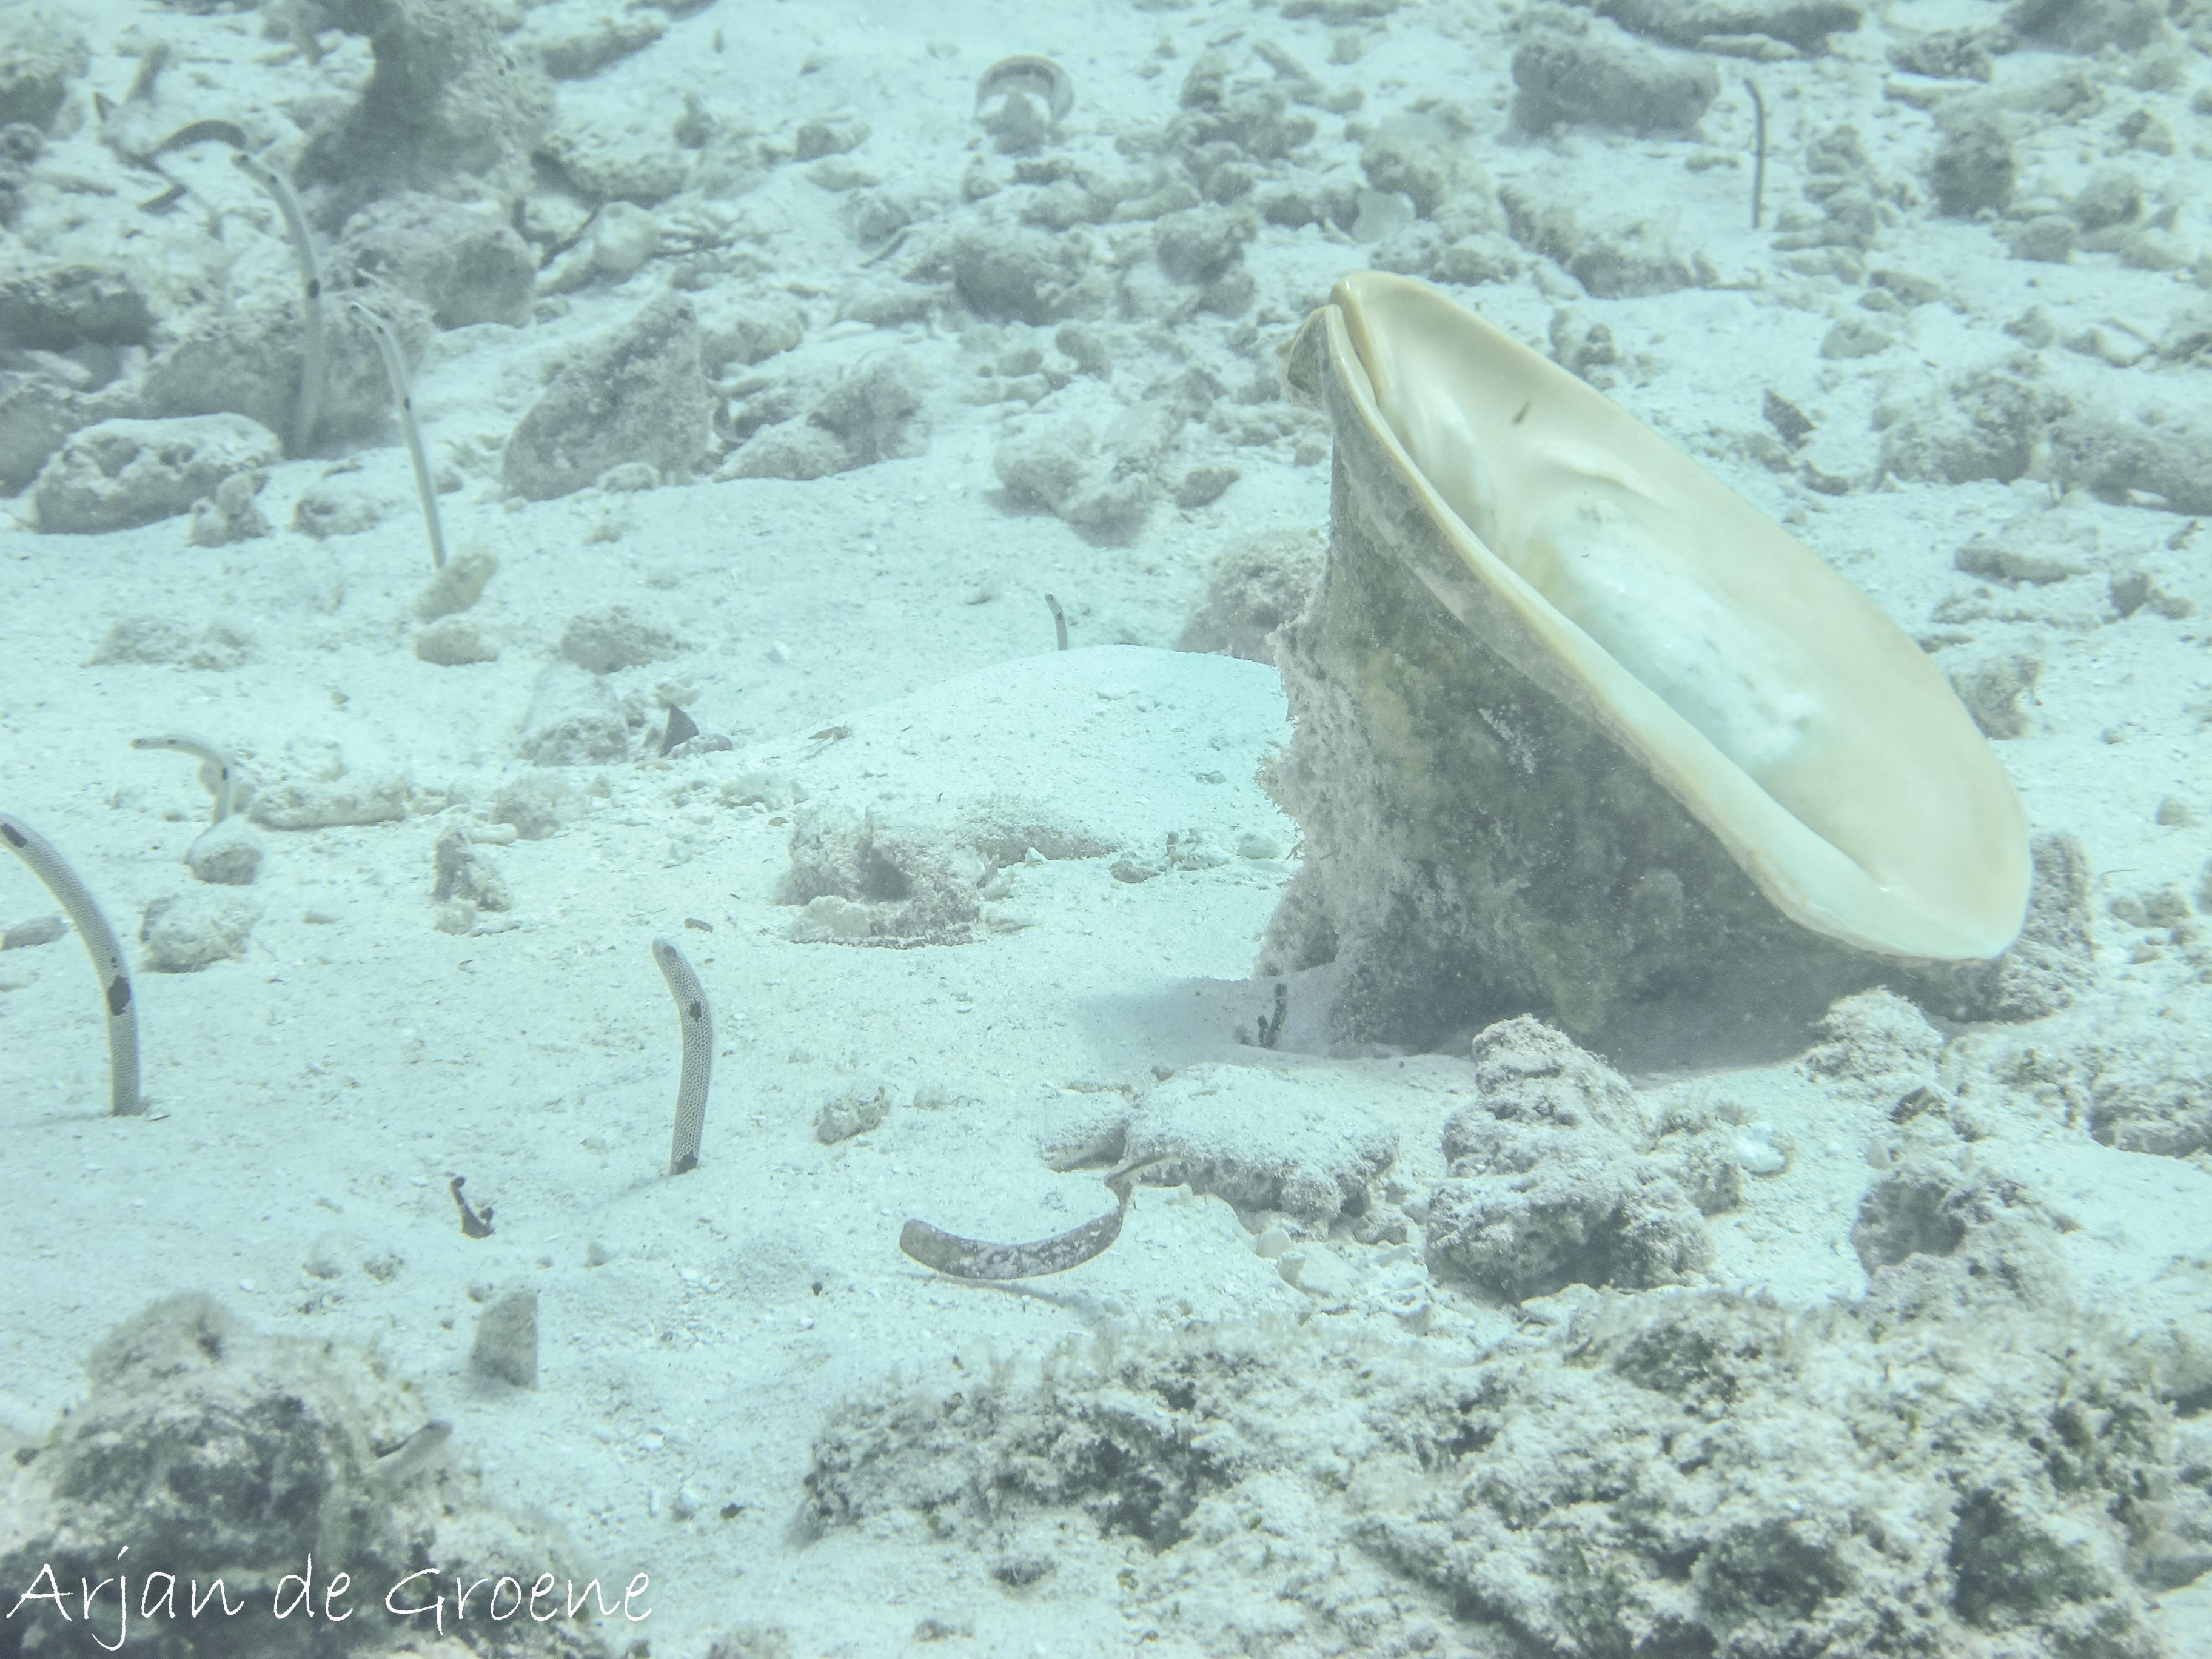Fish: (0, 810, 158, 1133), (219, 139, 361, 453), (631, 917, 728, 1215), (371, 298, 458, 589)
